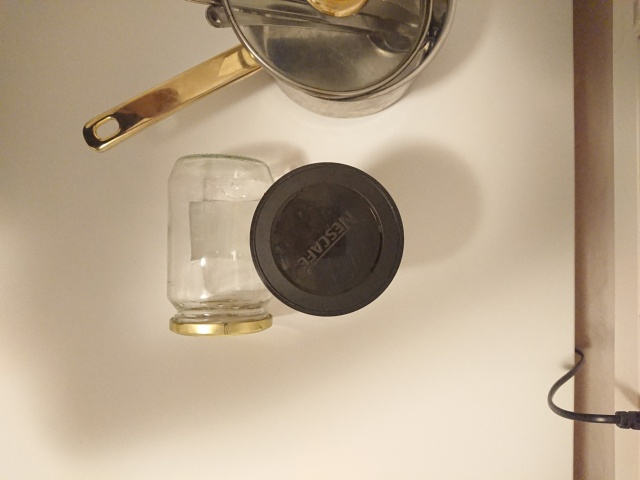Nescafe Classic 225g: (245, 158, 410, 321)
